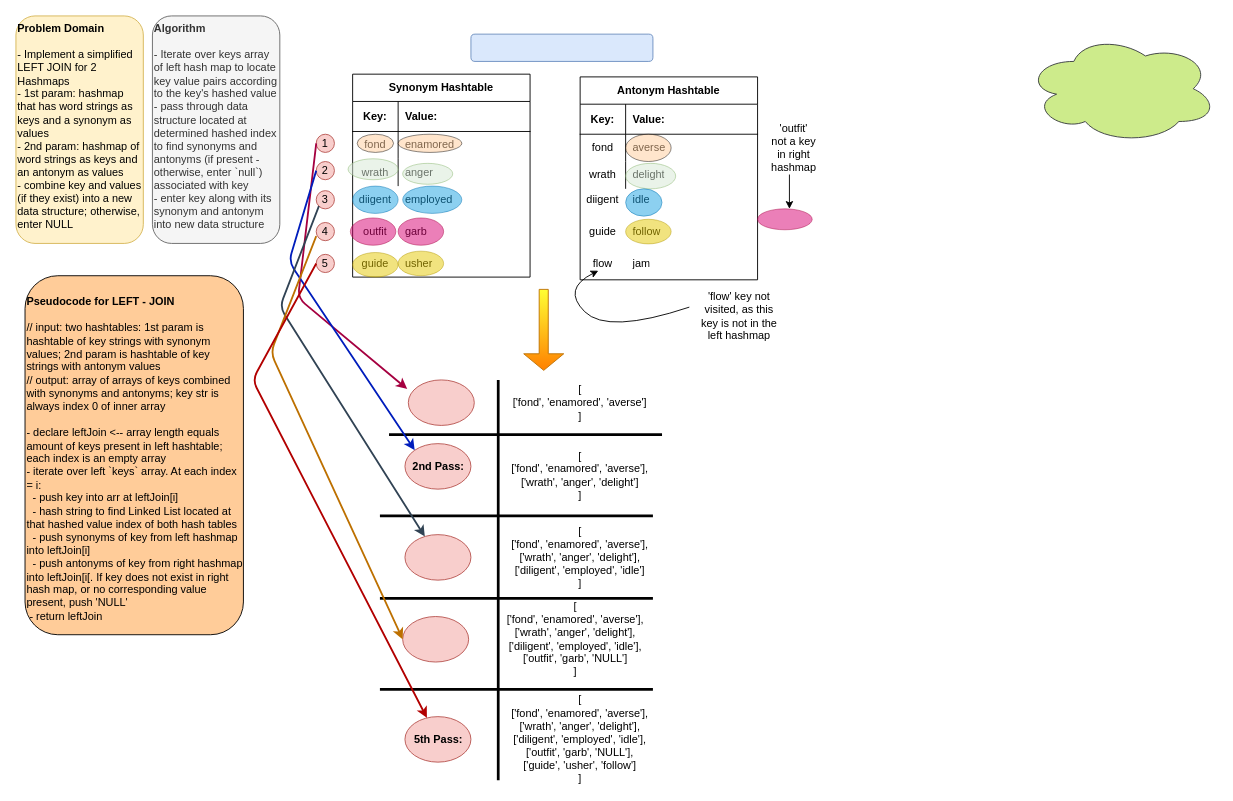
Some shapes in this 1233 by 801 pixel diagram are drawn without their labels. The centre of each missing label's shape, as x and y in pixels:
"1st Pass:" belongs at (x=440, y=402).
"3rd Pass:" belongs at (x=437, y=557).
"4th Pass:" belongs at (x=435, y=639).
"Big O Time: O(n) Space: O(n)" belongs at (x=1121, y=88).
"NULL" belongs at (x=784, y=219).
"Visual for LEFT - JOIN" belongs at (x=561, y=47).
